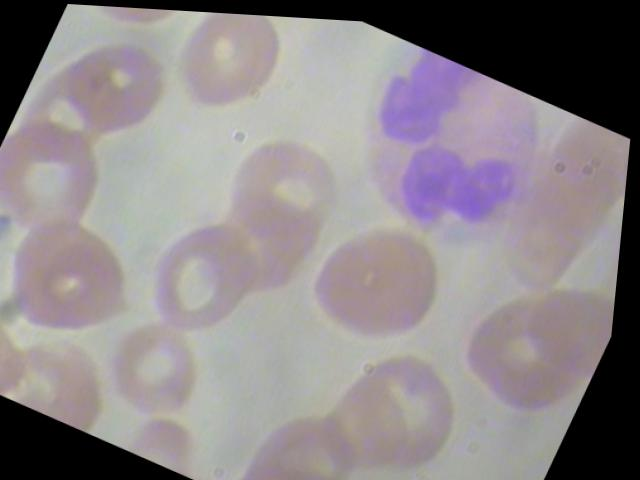Platelets: (0, 204, 28, 251)
Red Blood Cells: (292, 189, 475, 371), (445, 253, 621, 427), (0, 200, 159, 363), (322, 332, 487, 479), (131, 198, 284, 354), (210, 111, 362, 268), (0, 104, 123, 258), (156, 8, 297, 129), (99, 301, 231, 429), (66, 3, 202, 66)
White Blood Cells: (306, 25, 585, 278)
